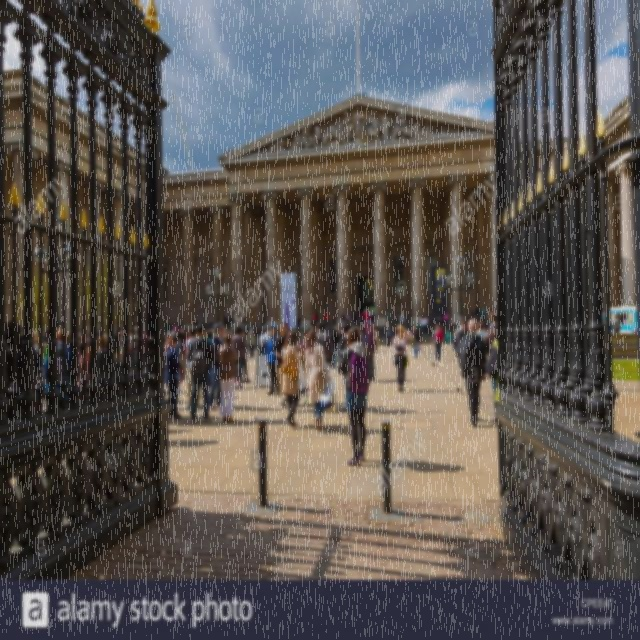pessoa: (0, 318, 165, 421), (253, 104, 464, 152), (336, 326, 373, 468), (165, 322, 272, 360), (293, 306, 376, 351), (456, 317, 488, 427), (186, 321, 217, 424), (304, 328, 332, 432), (278, 327, 306, 427), (218, 333, 240, 422), (164, 334, 185, 422), (482, 309, 498, 409), (184, 326, 203, 410), (392, 322, 414, 393), (208, 323, 224, 411), (272, 321, 288, 408), (454, 303, 497, 334), (338, 321, 352, 412), (266, 324, 281, 396), (314, 320, 334, 374), (230, 325, 247, 388), (486, 338, 499, 404), (239, 328, 252, 384), (366, 318, 376, 382), (430, 322, 444, 362), (216, 311, 252, 323), (245, 326, 257, 360), (409, 324, 420, 360), (418, 312, 429, 338), (372, 324, 380, 354), (384, 324, 392, 347), (399, 312, 405, 327), (385, 308, 390, 325), (393, 325, 398, 338)
